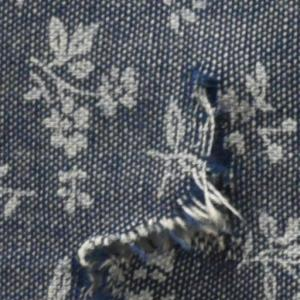Damage: (51, 59, 254, 300)
